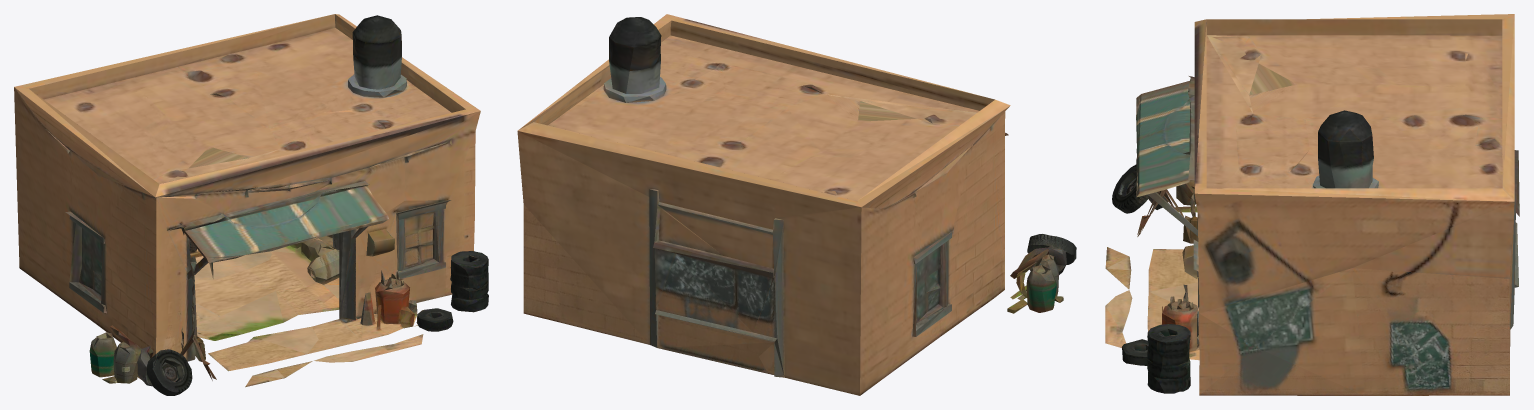
The model's file is militia_weapons_workshop.glb.
The picture shows the model from 3 angles, left to right: view 1: azimuth 30°, elevation 25°; view 2: azimuth 150°, elevation 25°; view 3: azimuth 270°, elevation 25°; orthographic projection. The views are drawn at different scales.
Parts seen in each view (by area): view 1: wall, roof; view 2: wall, roof; view 3: wall, roof.
Part boxes in pixels (bbox=[...]): wall: bbox=[14, 14, 488, 395]; roof: bbox=[14, 14, 480, 198]; wall: bbox=[517, 20, 1076, 395]; roof: bbox=[517, 14, 1010, 219]; wall: bbox=[1105, 19, 1519, 395]; roof: bbox=[1194, 14, 1514, 201].
Bounding box in the file's own units: 6 × 3.57 × 5.04.
1 material, 1 textured.
